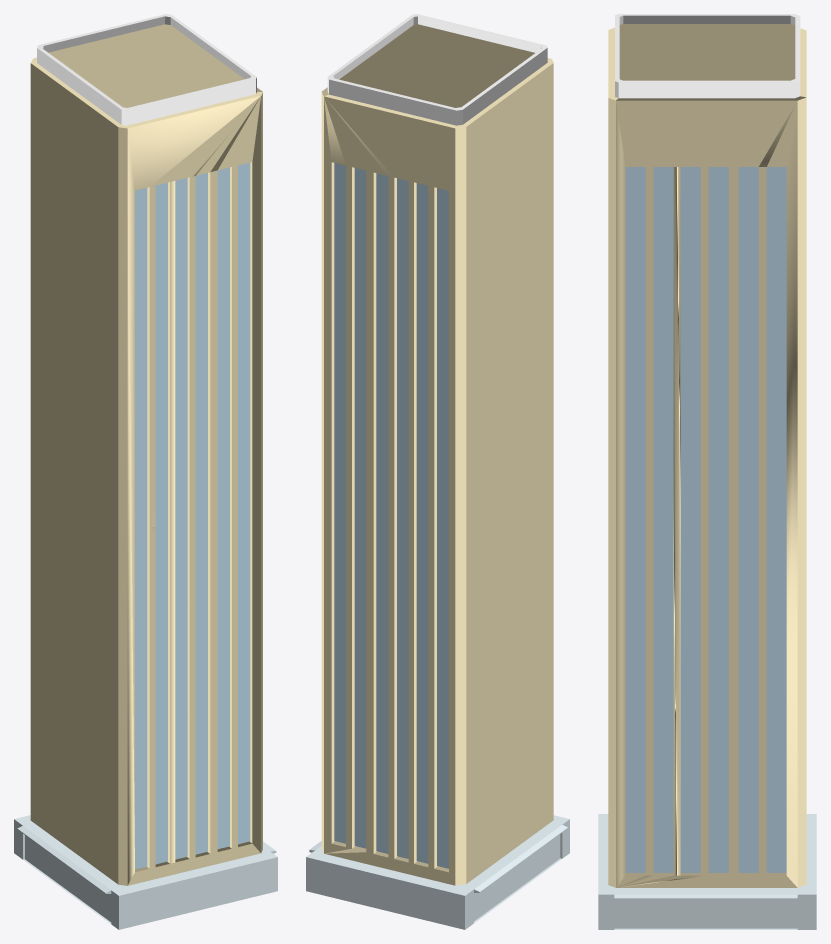
Rendered from building4.glb.
The picture shows the model from 3 angles, left to right: view 1: azimuth 30°, elevation 25°; view 2: azimuth 150°, elevation 25°; view 3: azimuth 270°, elevation 25°; orthographic projection. The views are drawn at different scales.
Visible parts, largest first — view 1: Glass_33; view 2: Glass_33; view 3: Glass_33.
Part boxes in pixels (x1=…): Glass_33: x1=14, y1=14, x2=277, y2=929; Glass_33: x1=306, y1=14, x2=569, y2=929; Glass_33: x1=598, y1=14, x2=816, y2=929.
Size of the model in its own units: 3.29 by 14.95 by 3.51.
